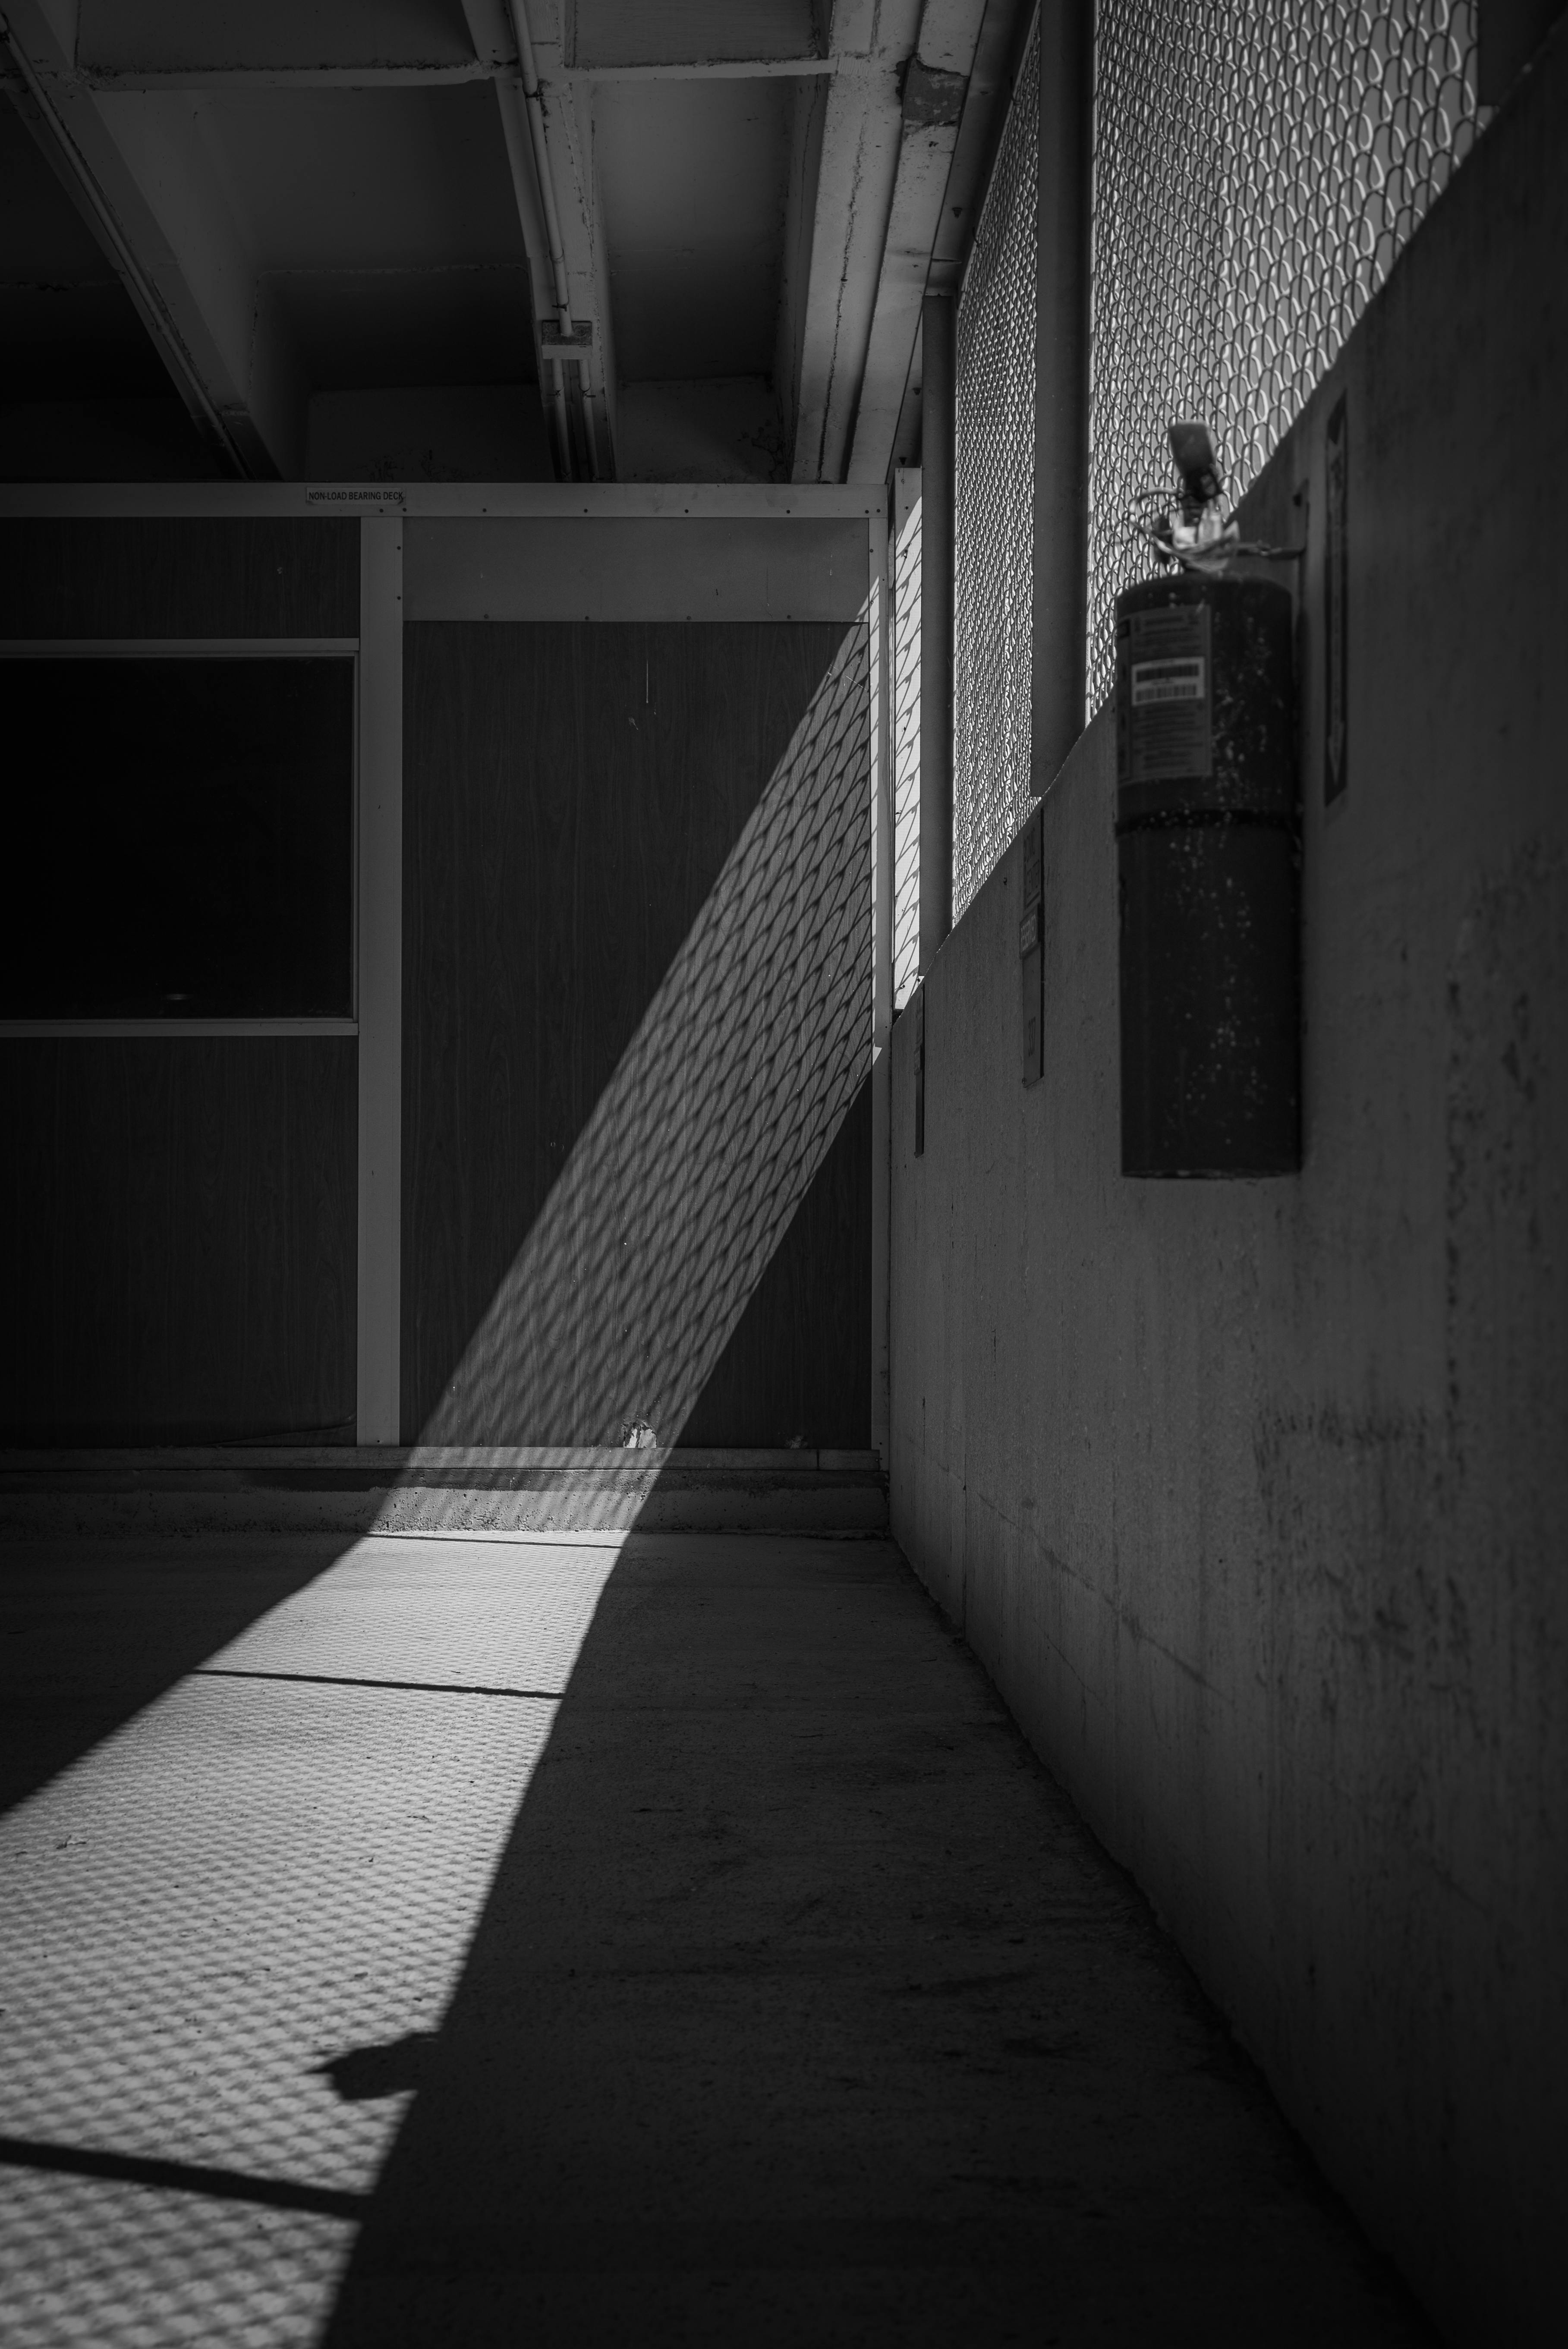extintor: (1101, 414, 1330, 1190)
